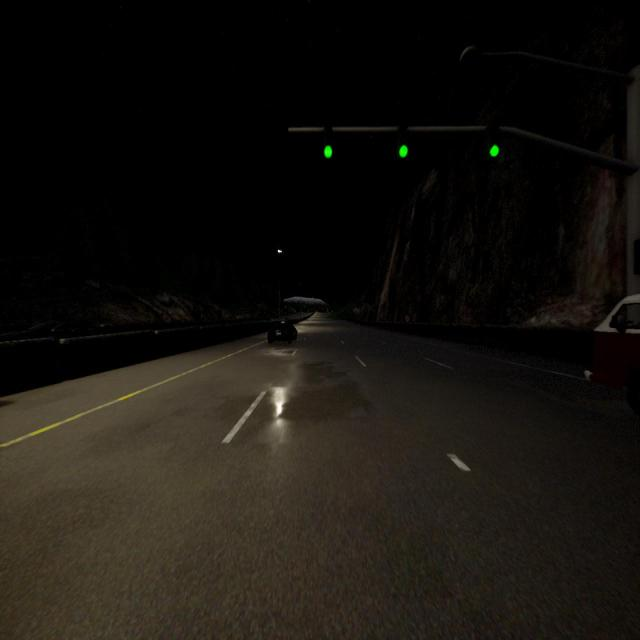Vehicle: (585, 294, 639, 415), (267, 319, 298, 346)
traffic_light: (488, 124, 499, 158), (398, 125, 408, 159), (323, 126, 333, 160)
